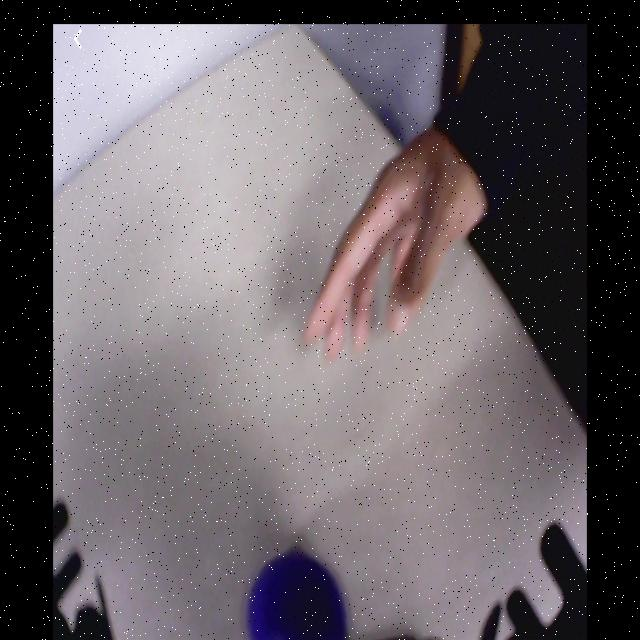ball: (246, 547, 347, 640)
